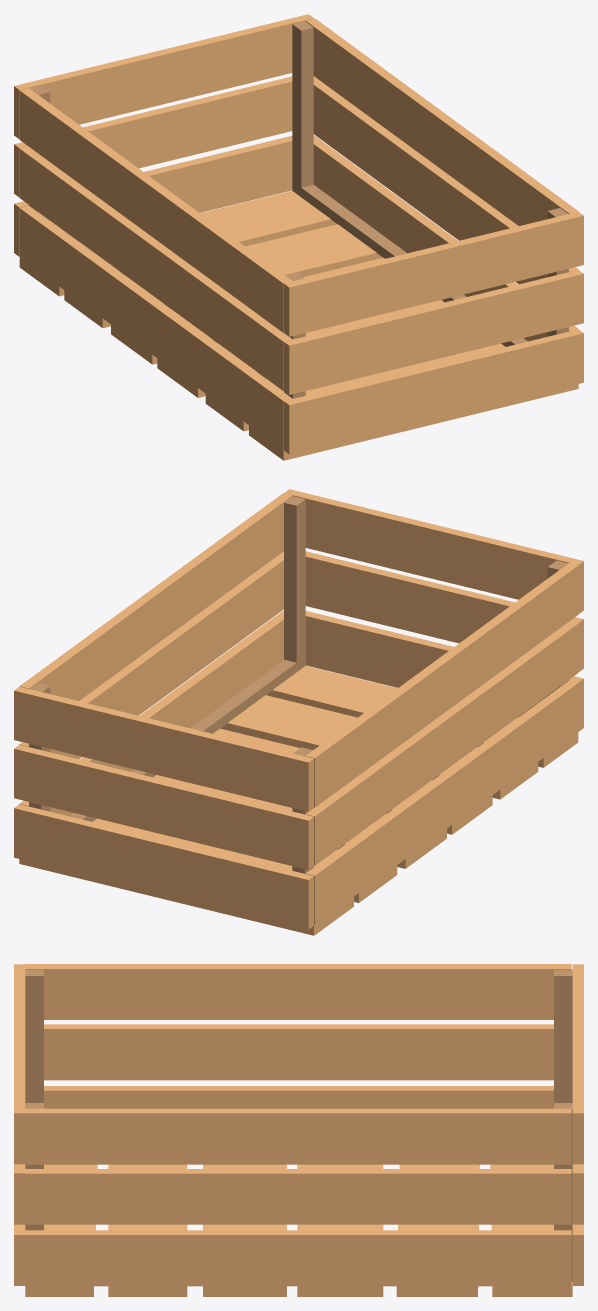
3 renders of one model, top to bottom at view 1: azimuth 30°, elevation 25°; view 2: azimuth 150°, elevation 25°; view 3: azimuth 270°, elevation 25°, orthographic. The views are drawn at different scales.
Visible parts, largest first — view 1: crates.013; view 2: crates.013; view 3: crates.013.
Boxes of the visible parts, box(x1,y1,x2,y2) form: crates.013: box(14, 14, 583, 460); crates.013: box(14, 489, 583, 935); crates.013: box(14, 964, 583, 1296).
Bounding box in the file's own units: 161 × 92.58 × 260.
